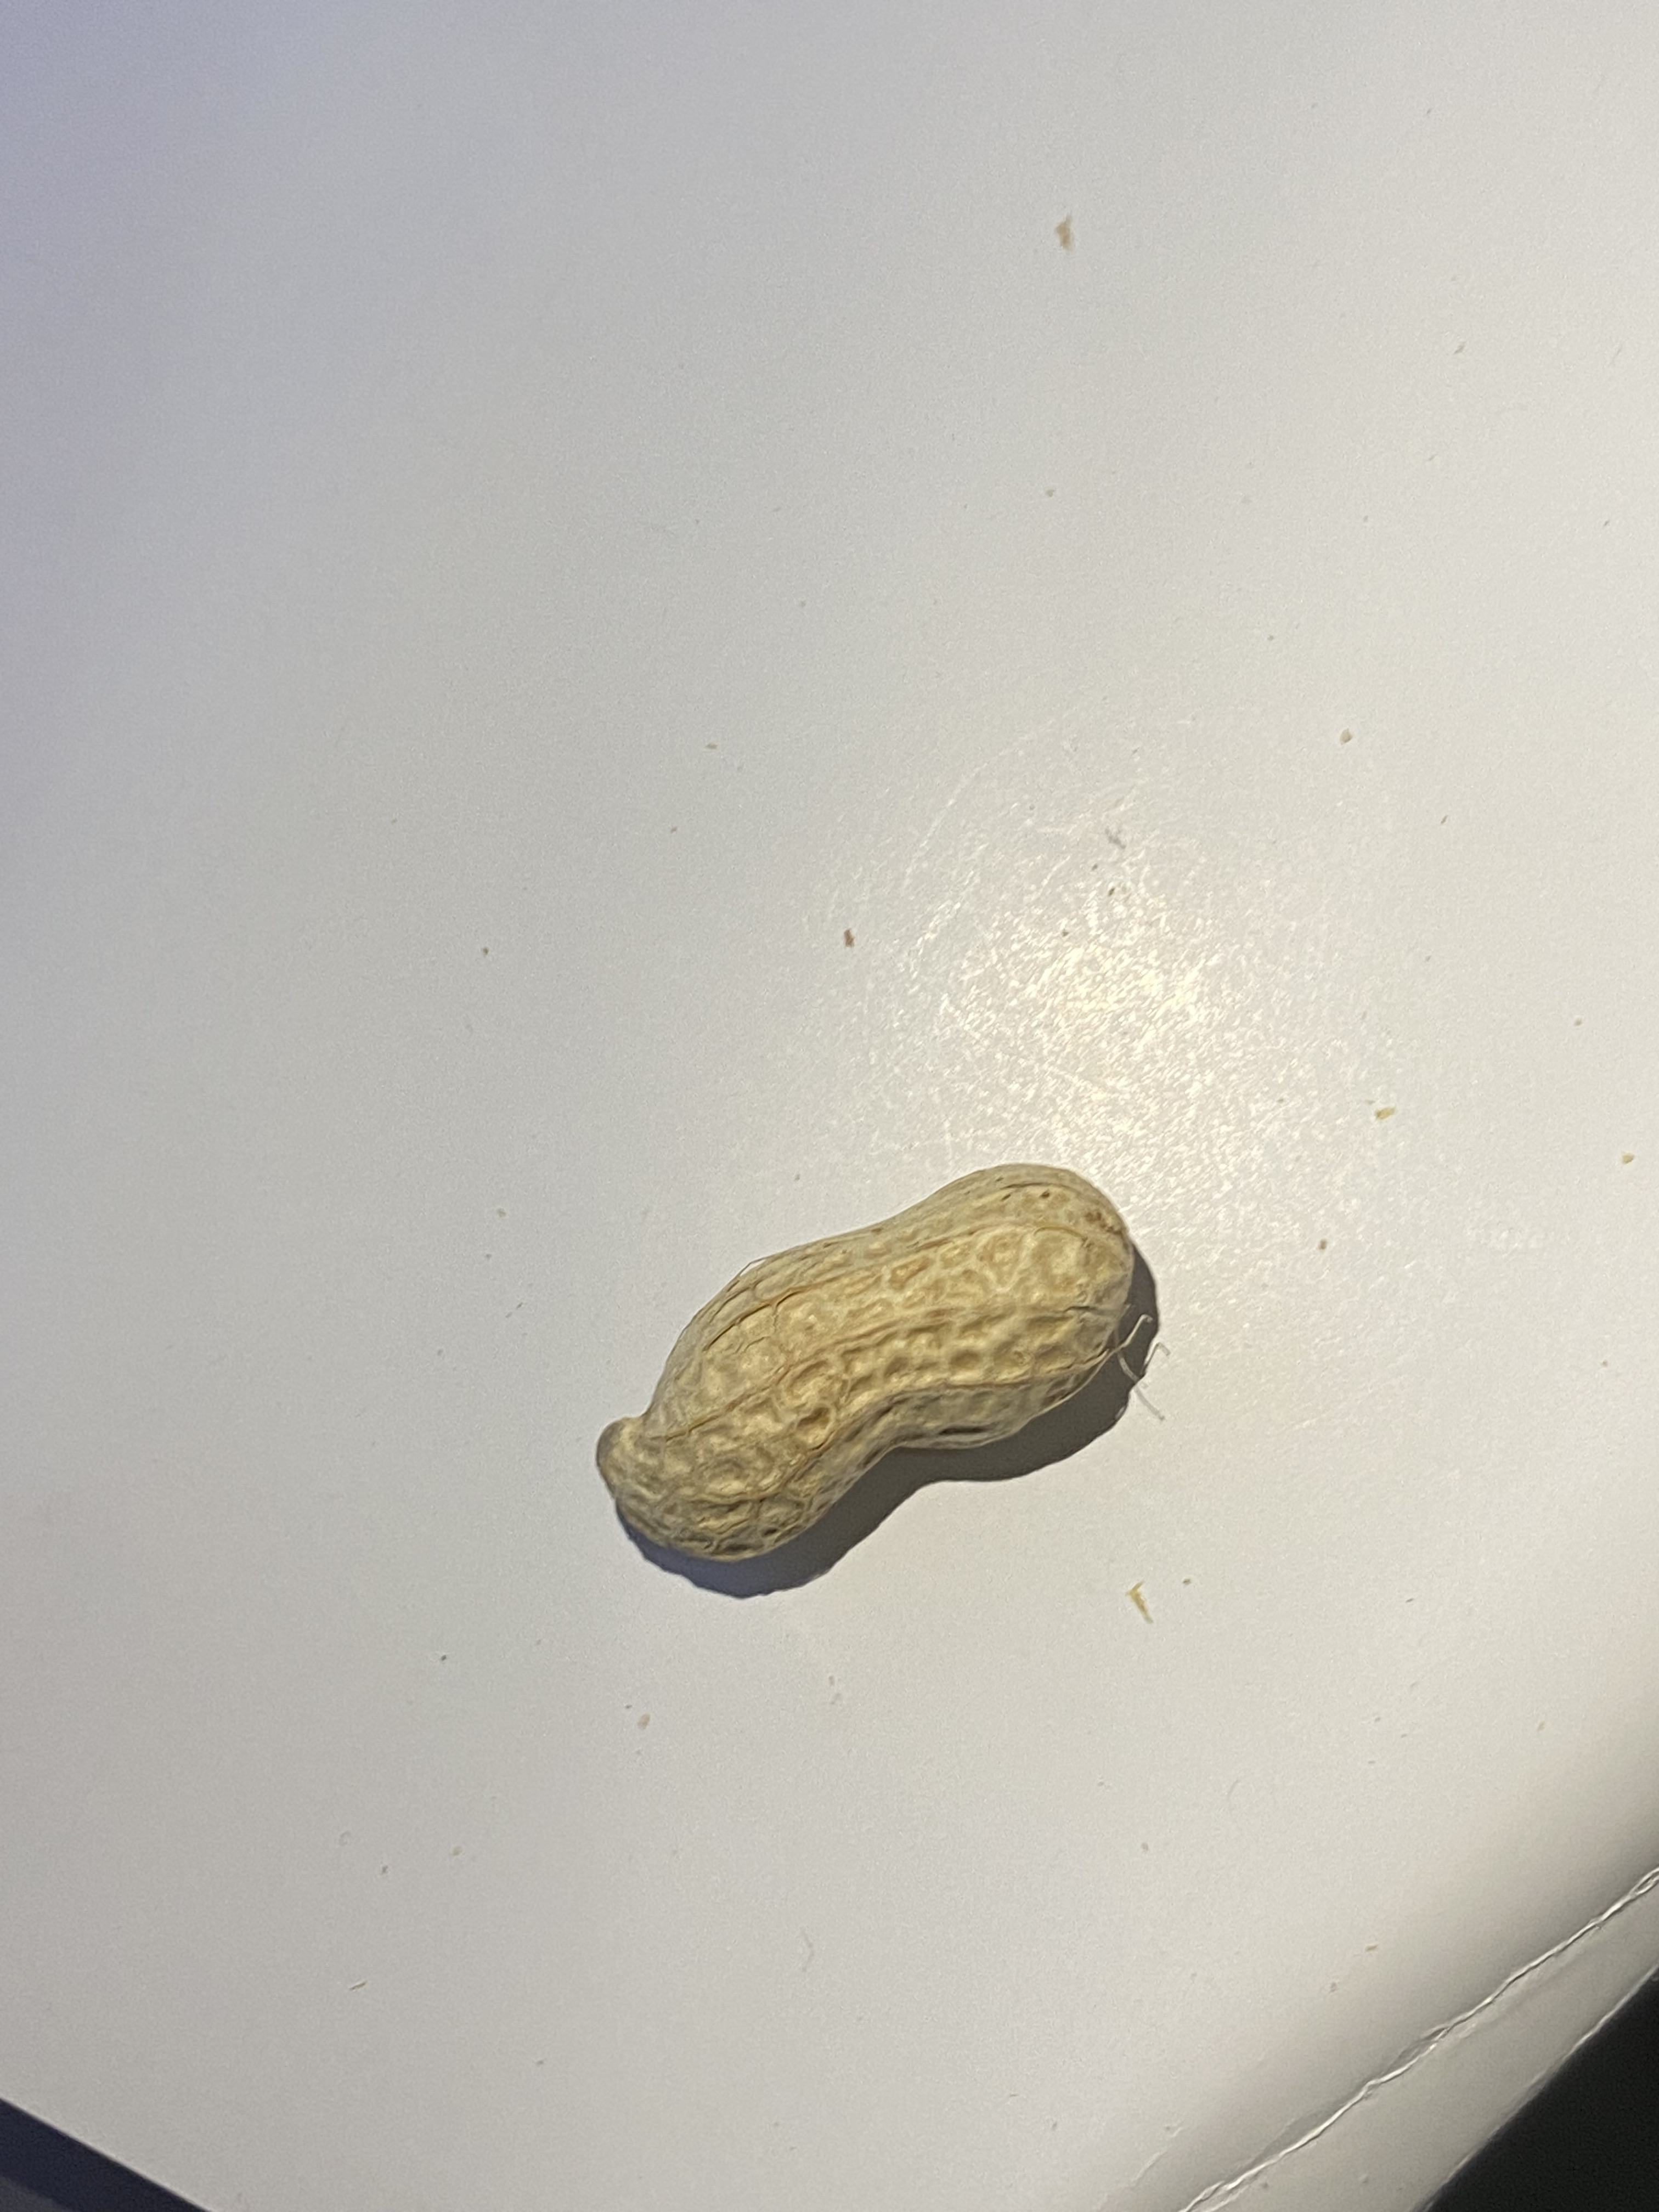kacang2: (565, 1148, 1157, 1576)
